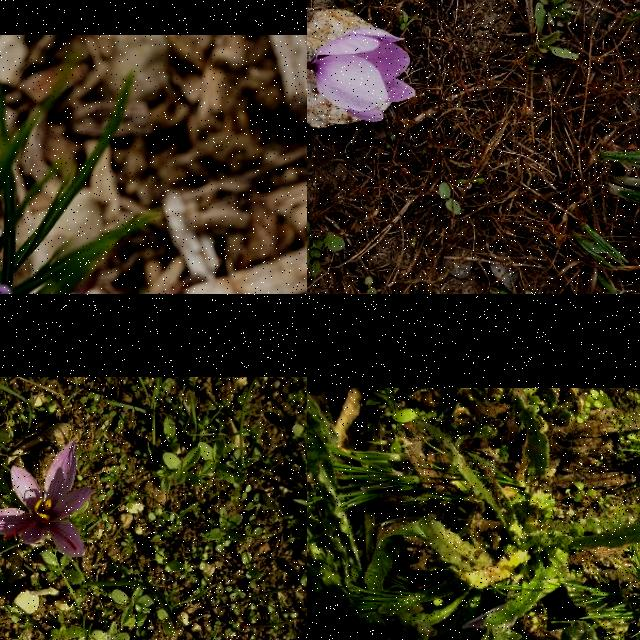flower: (0, 442, 97, 558), (308, 27, 418, 124)
